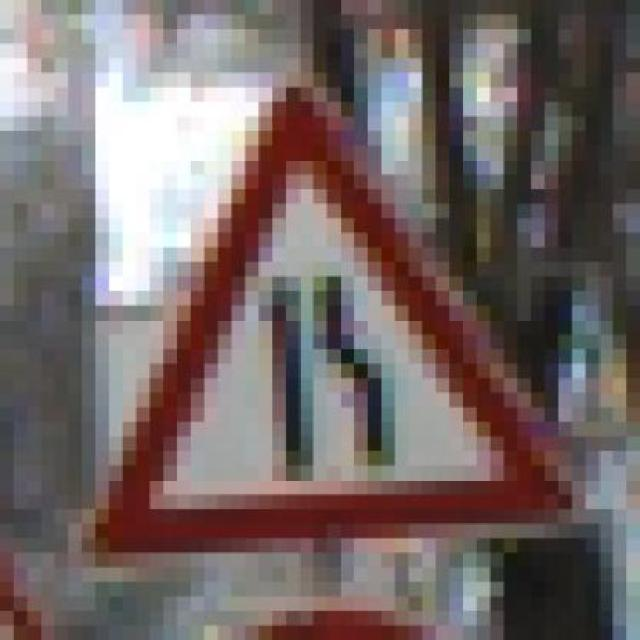-Road narrows on right: (54, 73, 586, 553)
